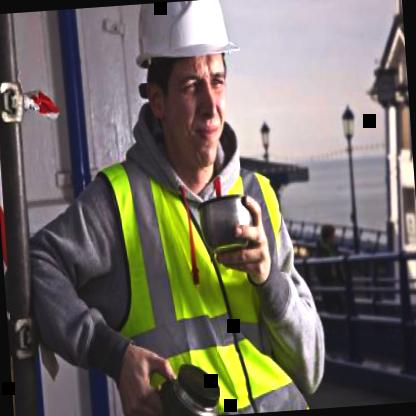helmet: (120, 0, 250, 181)
